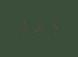seven: (45, 20, 57, 38)
two: (18, 18, 30, 36), (32, 19, 44, 37)
